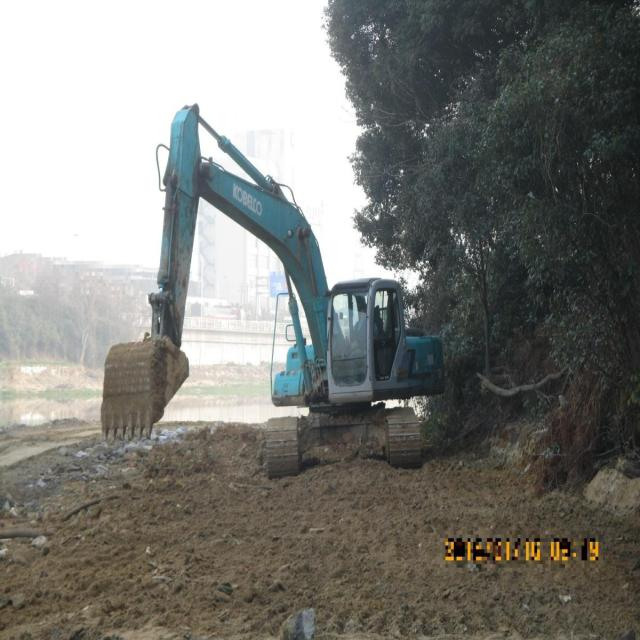excavator: (87, 99, 460, 492)
